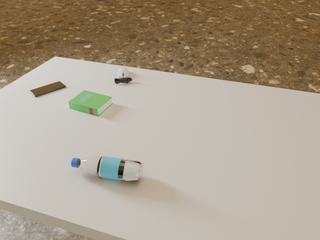book: (69, 90, 113, 116)
bottle: (71, 156, 143, 183)
mouse: (118, 68, 128, 79)
phone: (30, 81, 66, 97)
